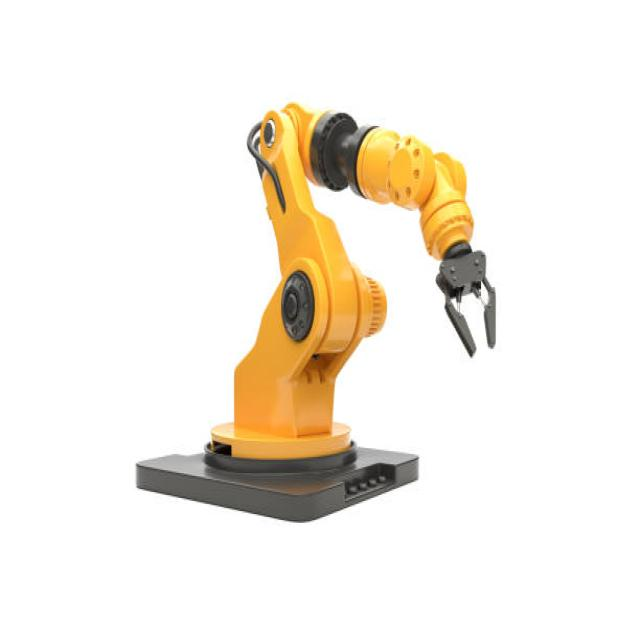Robotic-arm: (130, 96, 510, 528)
